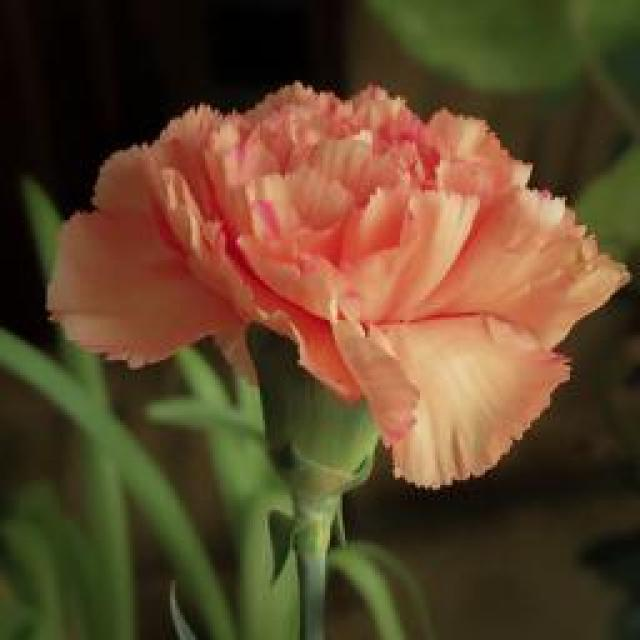carnation: (27, 77, 636, 483)
